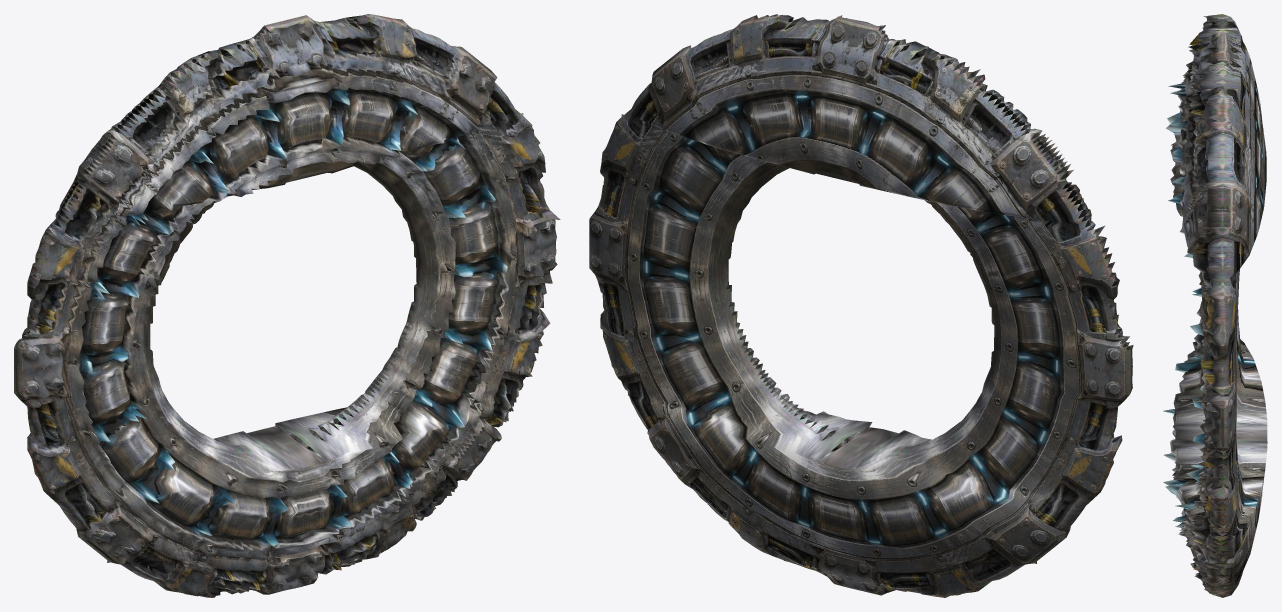
The model's file is bearing.glb.
3 views of the same model, side by side, from view 1: azimuth 30°, elevation 25°; view 2: azimuth 150°, elevation 25°; view 3: azimuth 270°, elevation 25° (orthographic). The views are drawn at different scales.
Visible parts, largest first — view 1: bearing; view 2: bearing; view 3: bearing.
Part boxes in pixels (box(x1,y1,x2,y2)): bearing: box(14, 14, 560, 597); bearing: box(589, 14, 1133, 597); bearing: box(1163, 14, 1267, 597).
Size of the model in its own units: 3.49 by 3.51 by 0.6316.
1 material, 1 textured.
